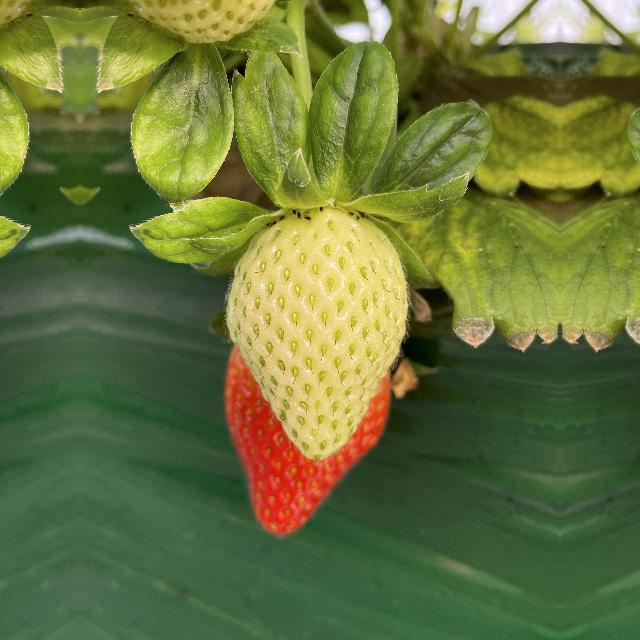Health_100: (224, 346, 390, 536)
Health_25: (220, 200, 418, 460)
